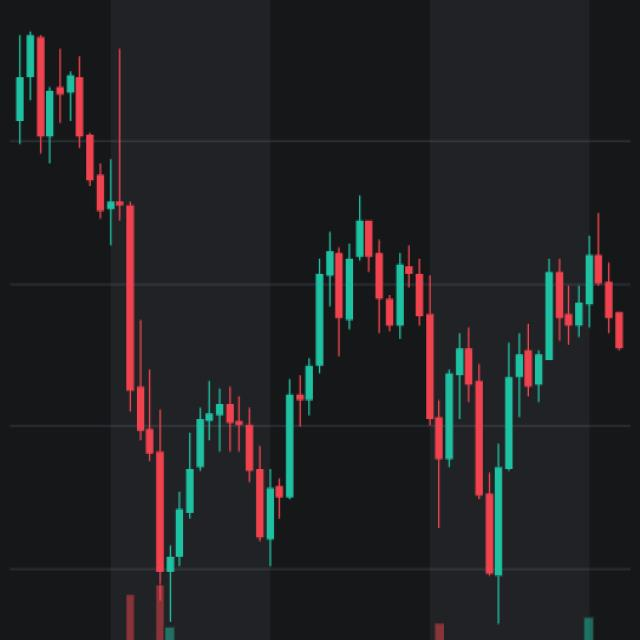Resistance-Emerging: (280, 202, 640, 581)
